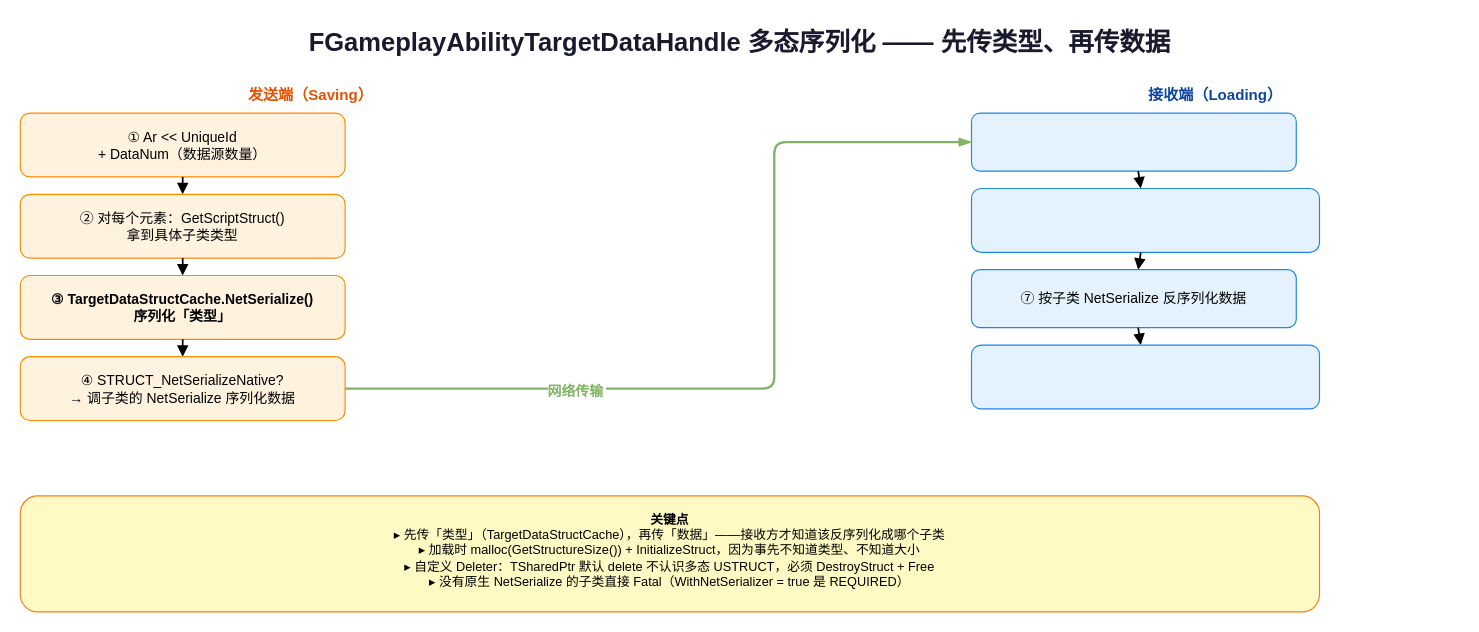
The diagram is 1479 pixels wide and 632 high, and some of its shapes have lost their labels. Each missing label, with the centre of its shape:
"⑤ 读出 DataNum → SetNum" belongs at point (1133, 141).
"⑥ 读出「类型」→ 知道是哪个子类 malloc(GetStructureSize()) + InitializeStruct" belongs at point (1145, 219).
"⑧ 用 FGameplayAbilityTargetDataDeleter （DestroyStruct + Free）析构" belongs at point (1145, 376).
